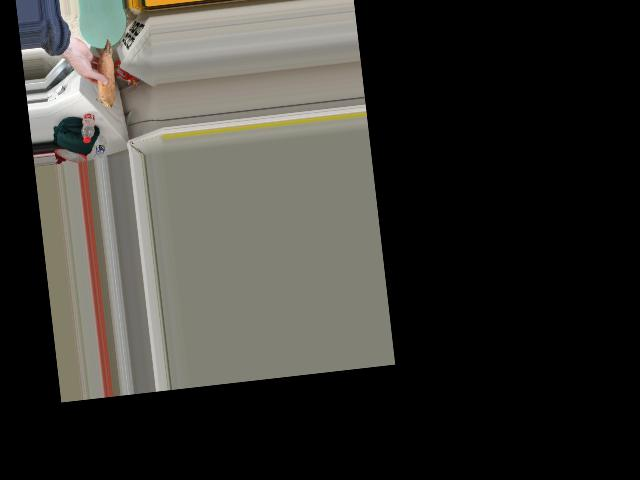sweet_potato: (90, 43, 117, 103)
